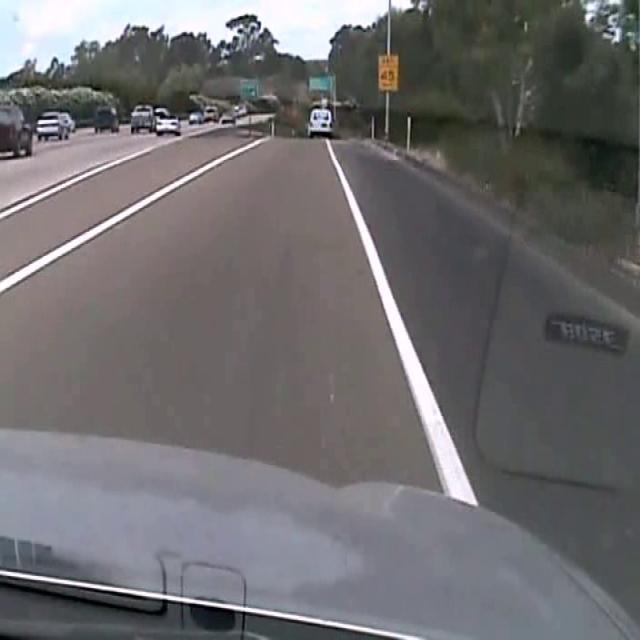speedLimit45: (377, 53, 398, 92)
